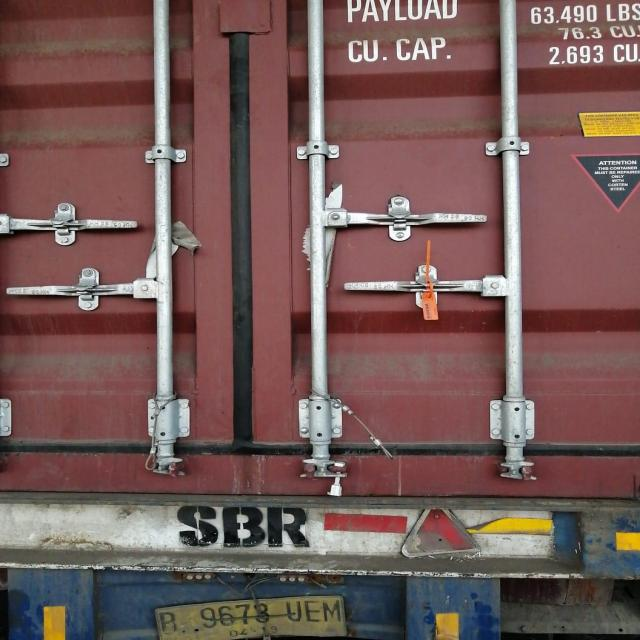seal: (419, 246, 442, 332), (323, 458, 347, 496)
